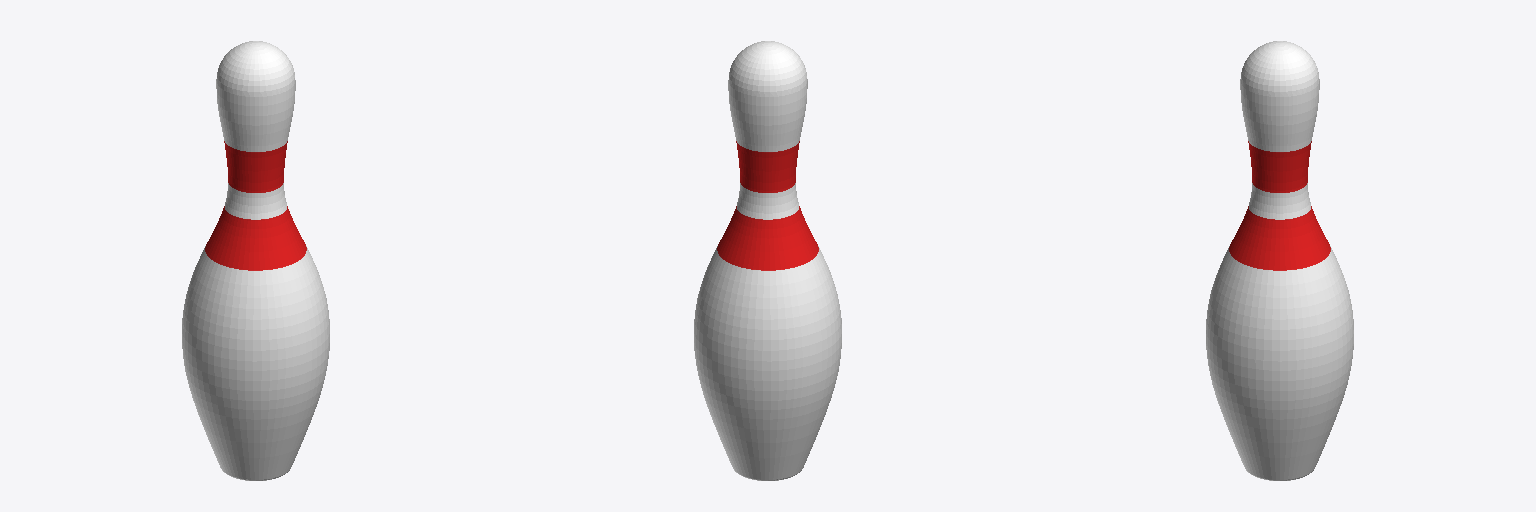
The picture shows the model from 3 angles: view 1: azimuth 30°, elevation 25°; view 2: azimuth 150°, elevation 25°; view 3: azimuth 270°, elevation 25°; orthographic projection.
Parts seen in each view (by area): view 1: bowlingPin; view 2: bowlingPin; view 3: bowlingPin.
Part boxes in pixels (x1,y1,x2,y2): bowlingPin: (182, 41, 329, 480); bowlingPin: (694, 41, 841, 480); bowlingPin: (1206, 41, 1353, 480).
Size of the model in its own units: 121 by 381 by 121.
Materials: 1 (1 with a texture image).